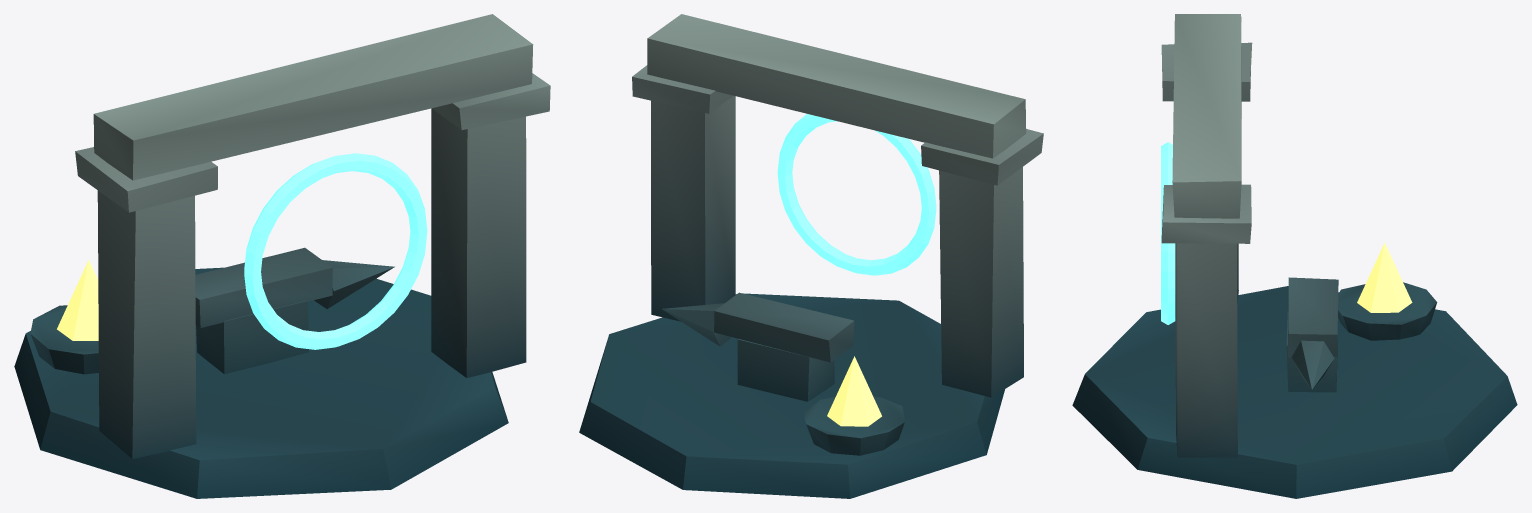
Rendered from ruin_station_forge.glb.
3 renders of one model, left to right at view 1: azimuth 30°, elevation 25°; view 2: azimuth 150°, elevation 25°; view 3: azimuth 270°, elevation 25°, orthographic. The views are drawn at different scales.
Visible parts, largest first — view 1: ruin_station_forge_stone, ruin_station_forge_glow, ruin_station_forge_warm; view 2: ruin_station_forge_stone, ruin_station_forge_glow, ruin_station_forge_warm; view 3: ruin_station_forge_stone, ruin_station_forge_warm, ruin_station_forge_glow.
Boxes of the visible parts, x1=… form: ruin_station_forge_stone: x1=14, y1=14, x2=550, y2=498; ruin_station_forge_glow: x1=244, y1=153, x2=427, y2=349; ruin_station_forge_warm: x1=57, y1=260, x2=98, y2=340; ruin_station_forge_stone: x1=579, y1=14, x2=1043, y2=498; ruin_station_forge_glow: x1=777, y1=114, x2=936, y2=275; ruin_station_forge_warm: x1=827, y1=356, x2=881, y2=426; ruin_station_forge_stone: x1=1072, y1=14, x2=1517, y2=498; ruin_station_forge_warm: x1=1357, y1=243, x2=1412, y2=312; ruin_station_forge_glow: x1=1161, y1=142, x2=1175, y2=324.
Bounding box in the file's own units: 8 × 6.13 × 8.01.
